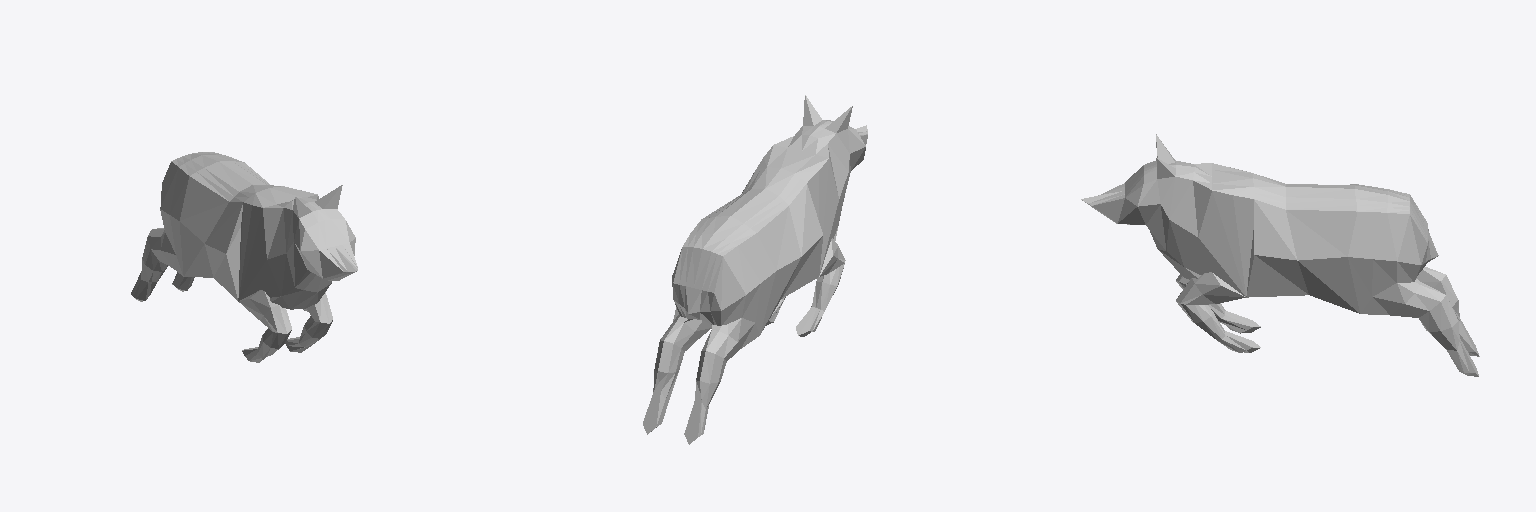
File: piesblendtex_000024.obj
The picture shows the model from 3 angles: view 1: azimuth 30°, elevation 25°; view 2: azimuth 150°, elevation 25°; view 3: azimuth 270°, elevation 25°; orthographic projection.
Parts seen in each view (by area): view 1: Cube; view 2: Cube; view 3: Cube.
Part boxes in pixels (x1,y1,x2,y2): Cube: (131, 152, 357, 362); Cube: (643, 95, 867, 444); Cube: (1081, 134, 1479, 376).
Bounding box in the file's own units: 2.56 × 6.37 × 10.39.